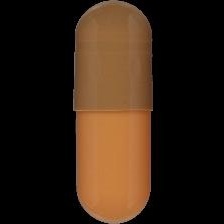0615-8055: (0, 0, 224, 224)
